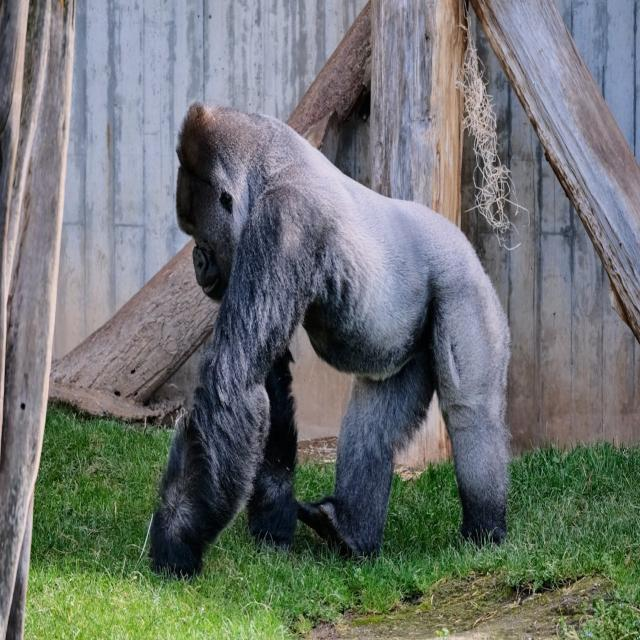Gorilla: (145, 102, 514, 581)
